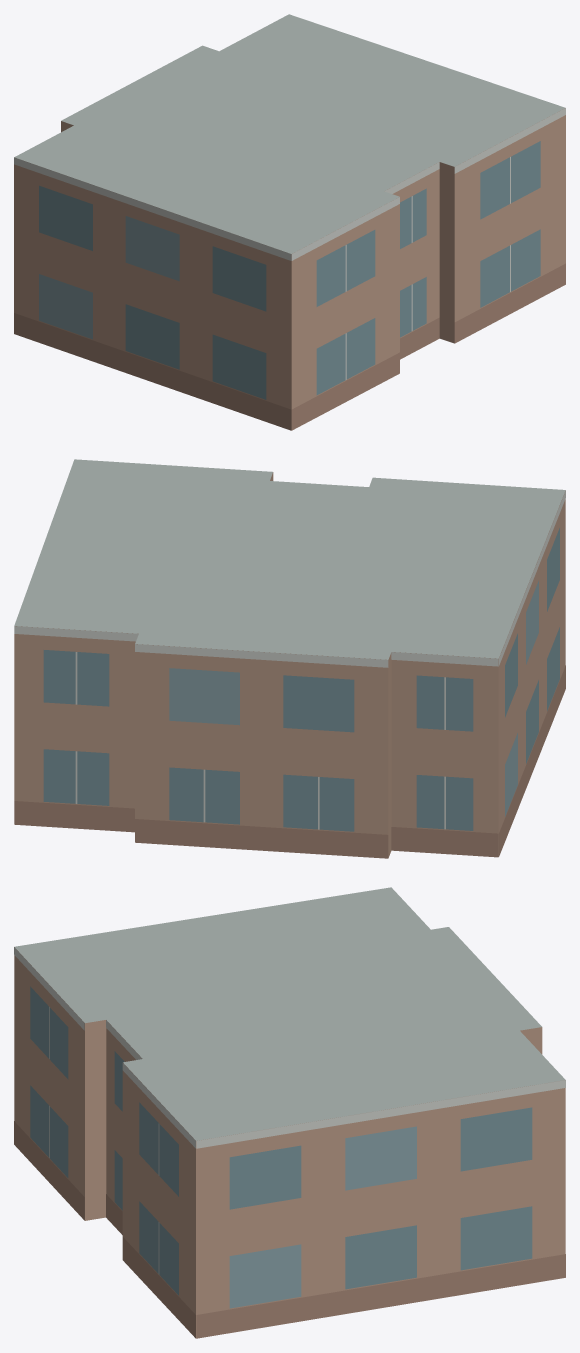
The model's file is survey-upis-32772941.glb.
The picture shows the model from 3 angles, top to bottom: view 1: azimuth 30°, elevation 25°; view 2: azimuth 150°, elevation 25°; view 3: azimuth 270°, elevation 25°; orthographic projection. The views are drawn at different scales.
Parts seen in each view (by area): view 1: survey-upis-32772941.tmp; view 2: survey-upis-32772941.tmp; view 3: survey-upis-32772941.tmp.
Boxes of the visible parts, x1=… form: survey-upis-32772941.tmp: x1=14, y1=14, x2=565, y2=430; survey-upis-32772941.tmp: x1=14, y1=459, x2=565, y2=858; survey-upis-32772941.tmp: x1=14, y1=887, x2=565, y2=1338.
Bounding box in the file's own units: 16.8 × 6.1 × 15.44.
